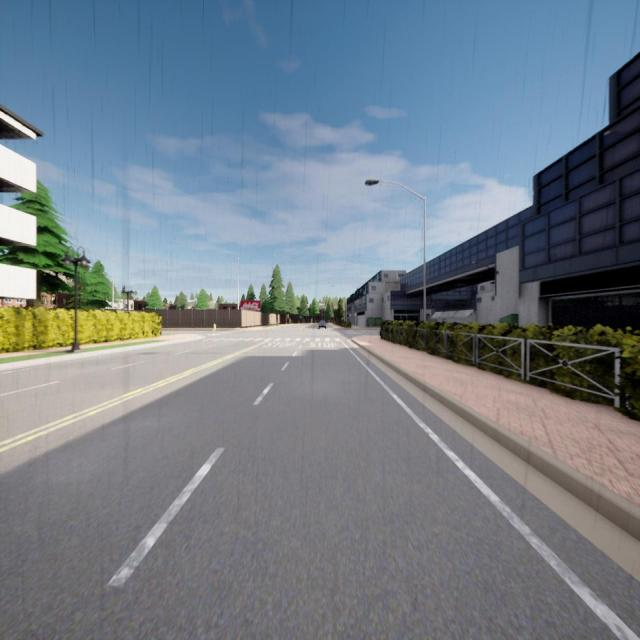Pedestrian: (213, 322, 216, 334)
Vehicle: (318, 320, 327, 329)
